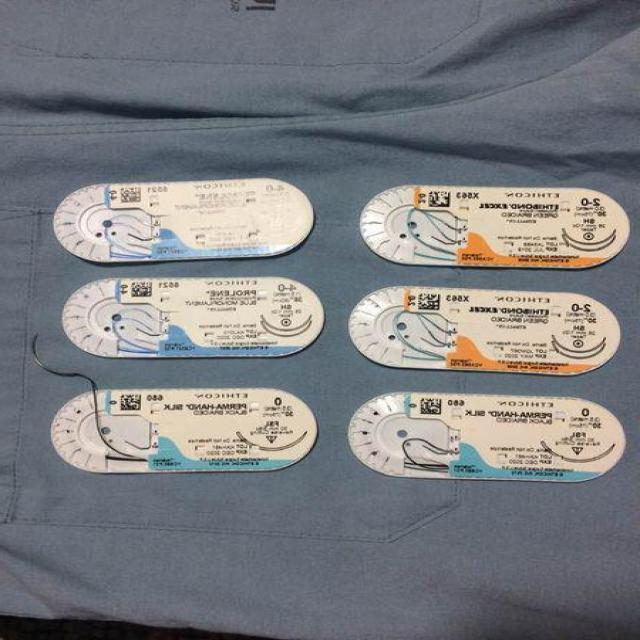Needle: (30, 329, 81, 378), (430, 440, 460, 456), (441, 216, 465, 232), (428, 335, 455, 347), (146, 325, 168, 337), (440, 233, 462, 244), (146, 312, 166, 324), (436, 323, 456, 335), (138, 230, 158, 240), (140, 219, 158, 229)
